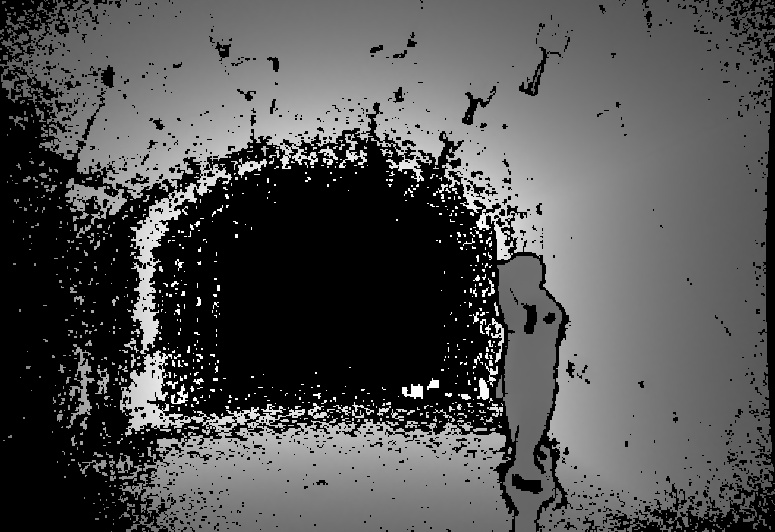person: (495, 254, 563, 532)
